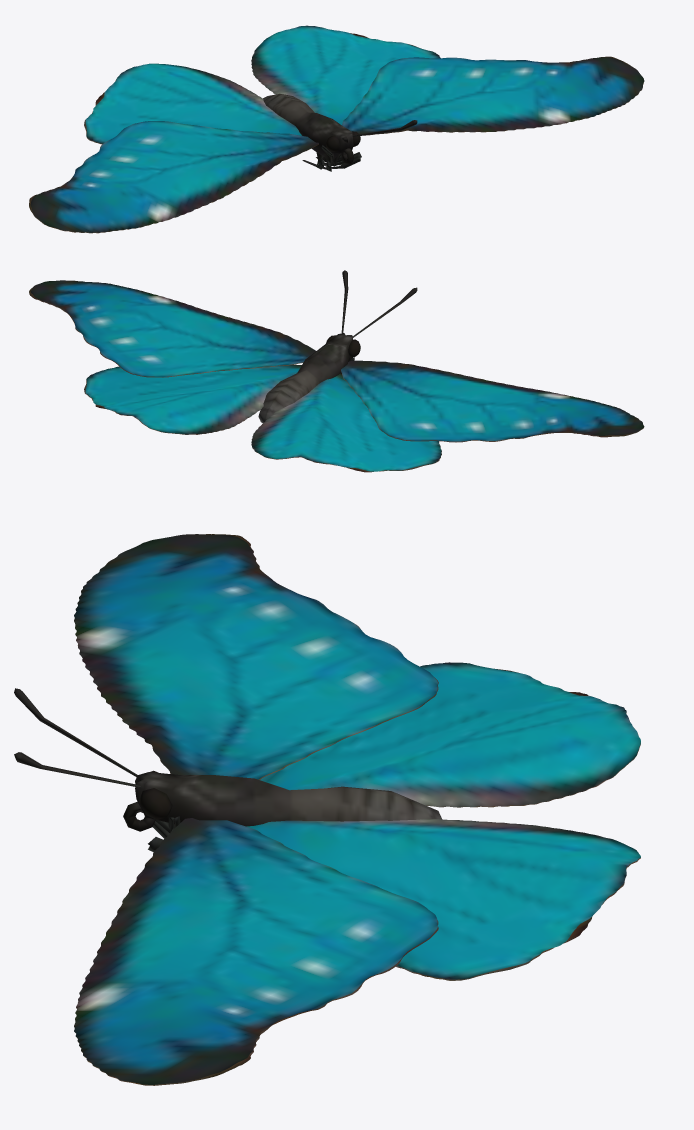
The model's file is emperor-butterfly.glb.
3 views of the same model, one above another, from view 1: azimuth 30°, elevation 25°; view 2: azimuth 150°, elevation 25°; view 3: azimuth 270°, elevation 25° (orthographic). The views are drawn at different scales.
Size of the model in its own units: 7.23 by 0.8623 by 3.38.
1 material, 1 textured.
